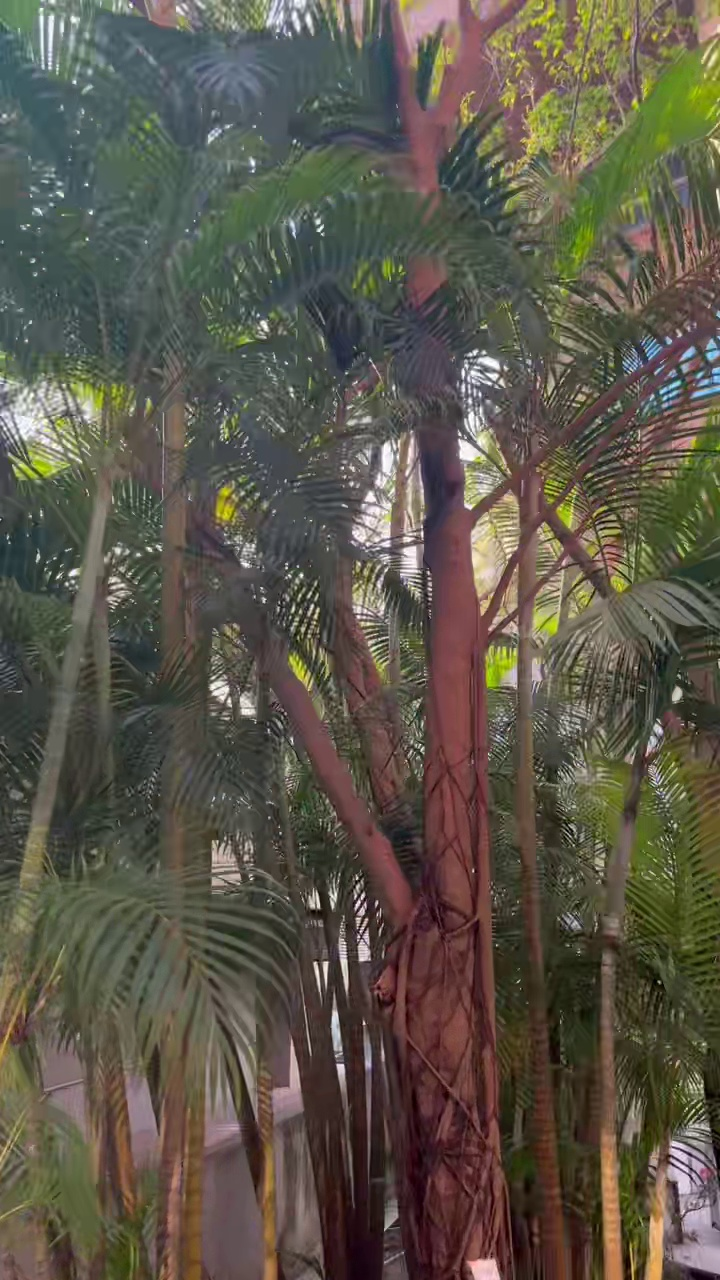Ficus benjamina: (268, 0, 521, 1279)
